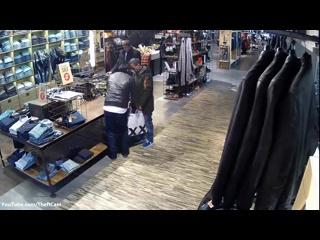Normal: (107, 40, 141, 75)
shoplifting: (103, 60, 139, 160), (128, 58, 154, 148)
